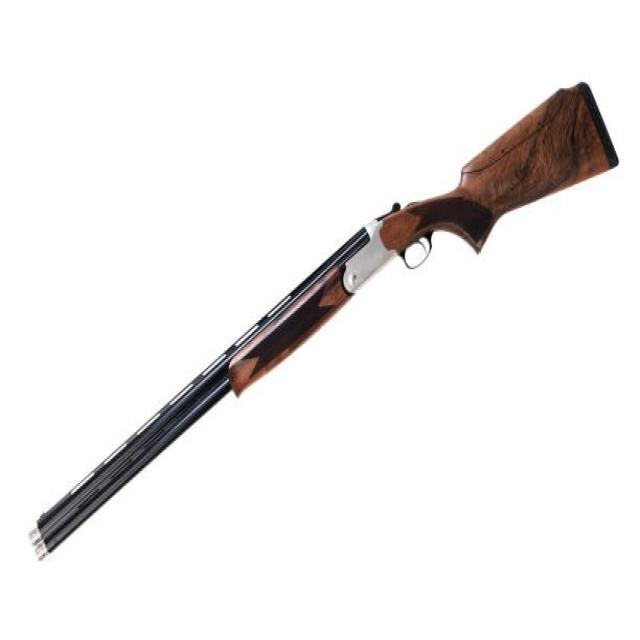rifle: (24, 67, 626, 571)
